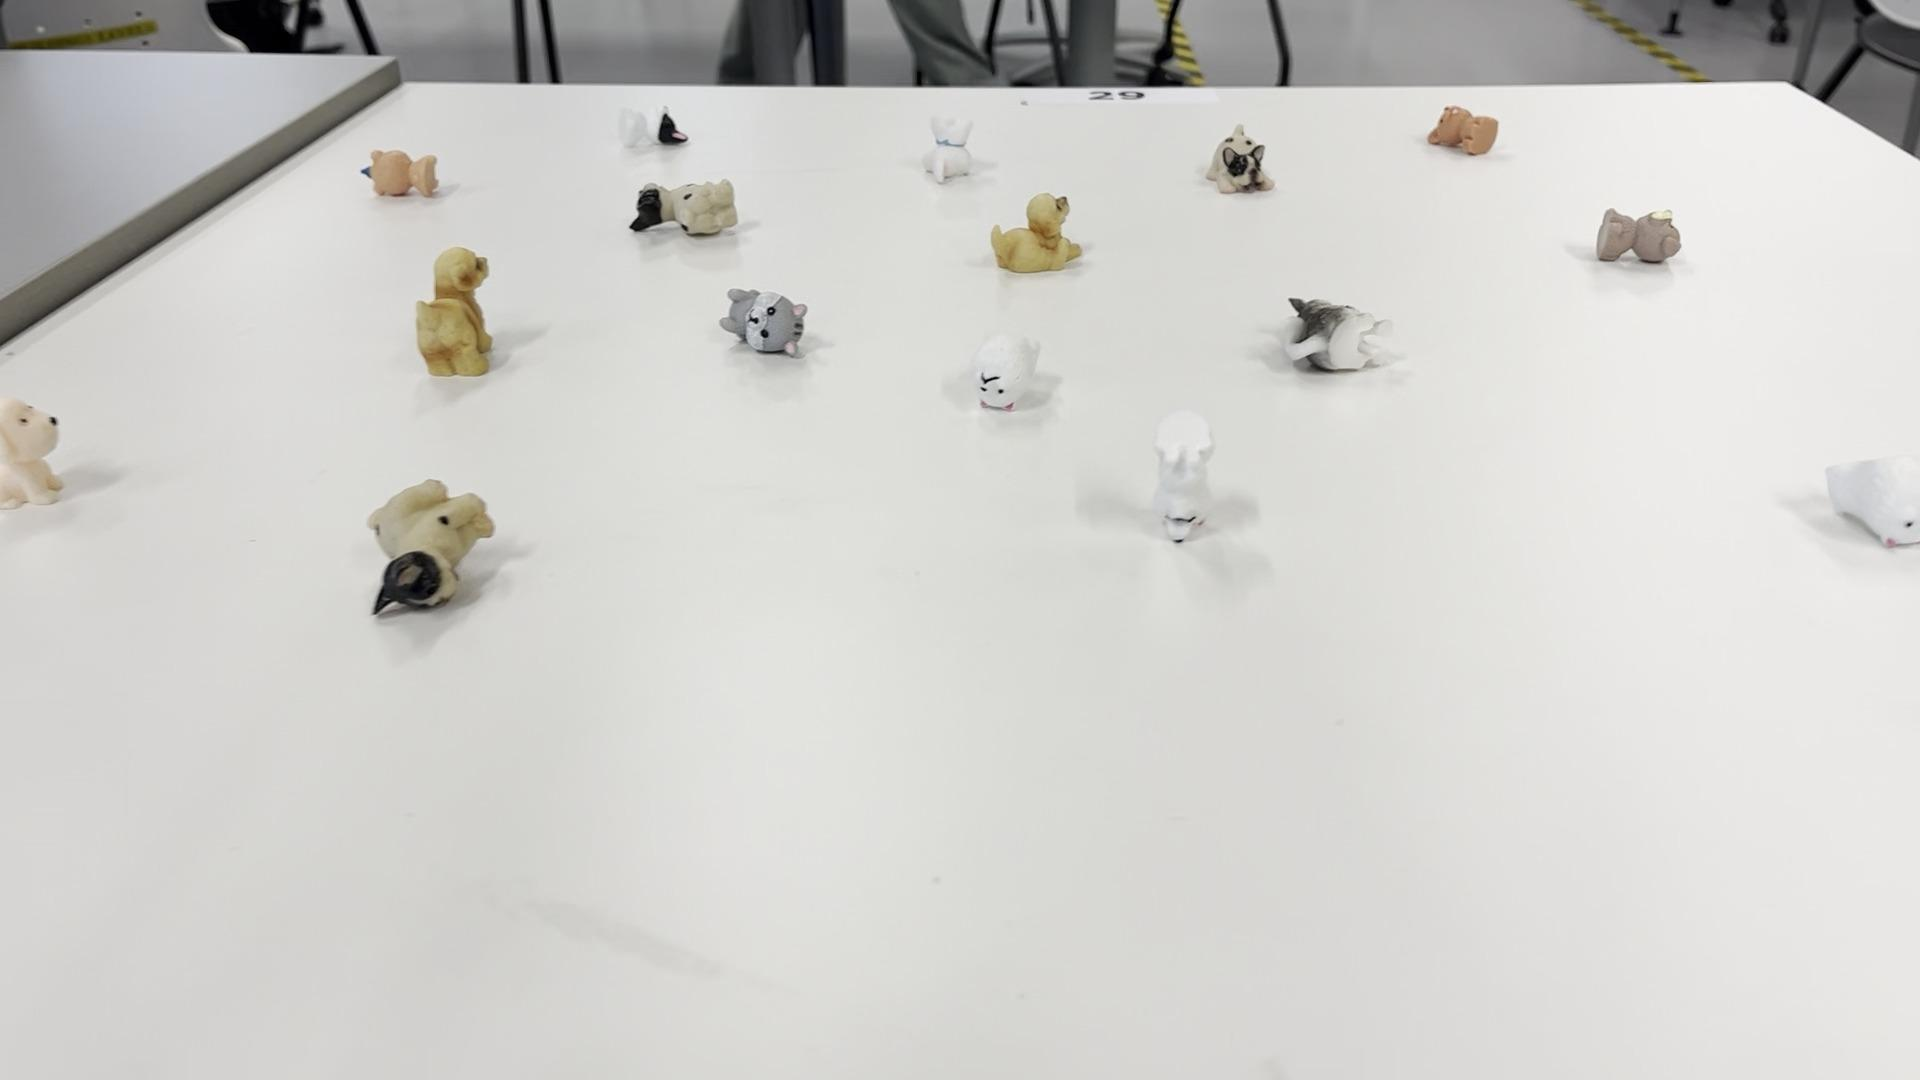pet: (375, 476, 501, 633), (418, 245, 501, 386), (1832, 448, 1920, 572), (1284, 295, 1403, 384), (0, 389, 75, 522), (1001, 191, 1096, 282), (1162, 409, 1221, 546), (1601, 195, 1687, 280), (343, 142, 451, 208), (629, 178, 741, 239), (981, 326, 1054, 415), (723, 290, 808, 363), (1204, 125, 1278, 195), (1435, 103, 1502, 178), (621, 91, 695, 152), (928, 108, 981, 186)
